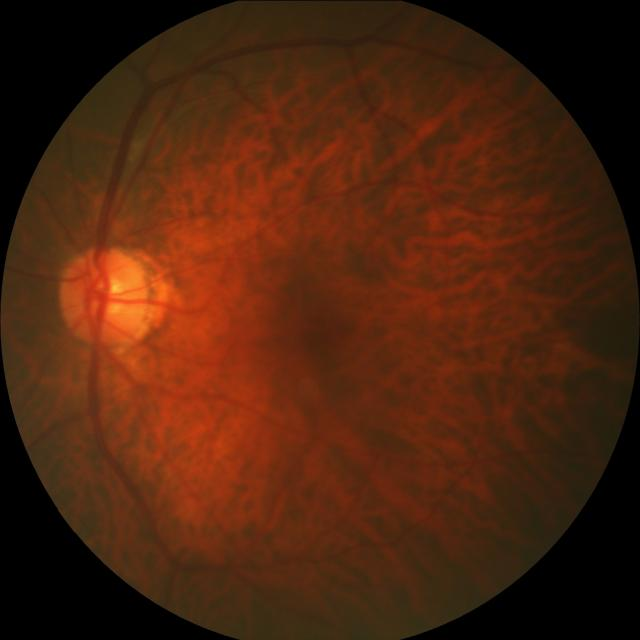OC: (84, 272, 128, 318)
OD: (59, 245, 153, 346)
